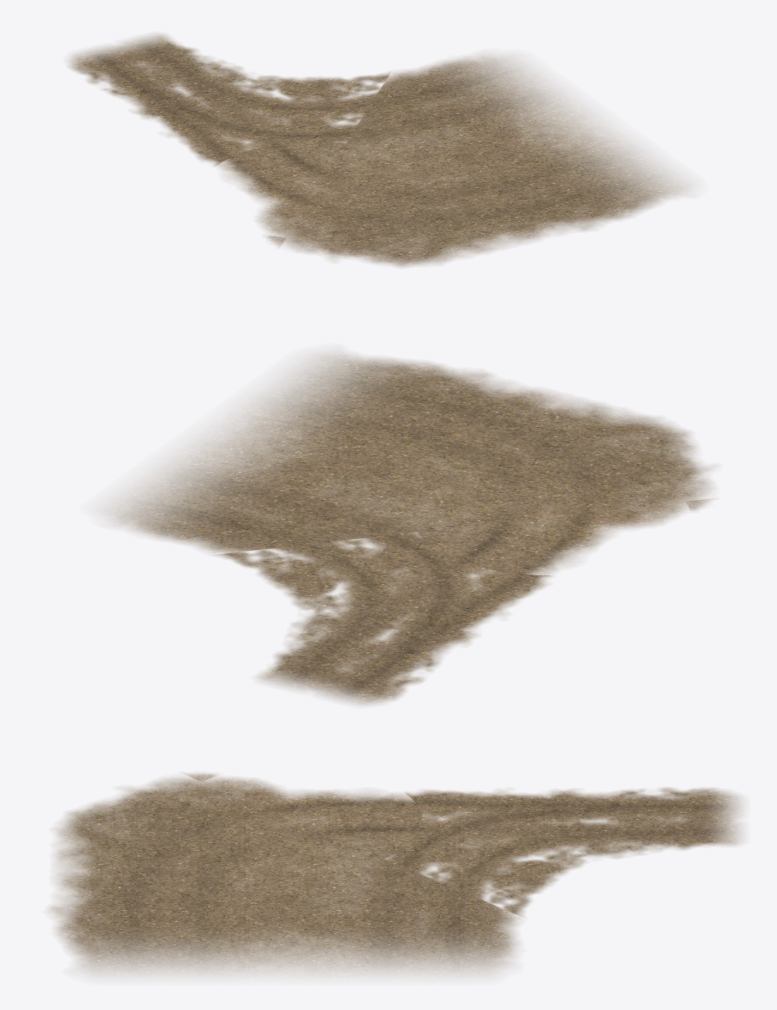
The model's file is road_bend_main_drive.glb.
3 renders of one model, top to bottom at view 1: azimuth 30°, elevation 25°; view 2: azimuth 150°, elevation 25°; view 3: azimuth 270°, elevation 25°, orthographic. The views are drawn at different scales.
Visible parts, largest first — view 1: road_bend_main_drive; view 2: road_bend_main_drive; view 3: road_bend_main_drive.
Boxes of the visible parts, bbox=[...] form: road_bend_main_drive: bbox=[68, 33, 689, 267]; road_bend_main_drive: bbox=[103, 352, 714, 705]; road_bend_main_drive: bbox=[49, 773, 741, 975].
Bounding box in the file's own units: 13.15 × 0 × 17.44.
Materials: 1 (1 with a texture image).
